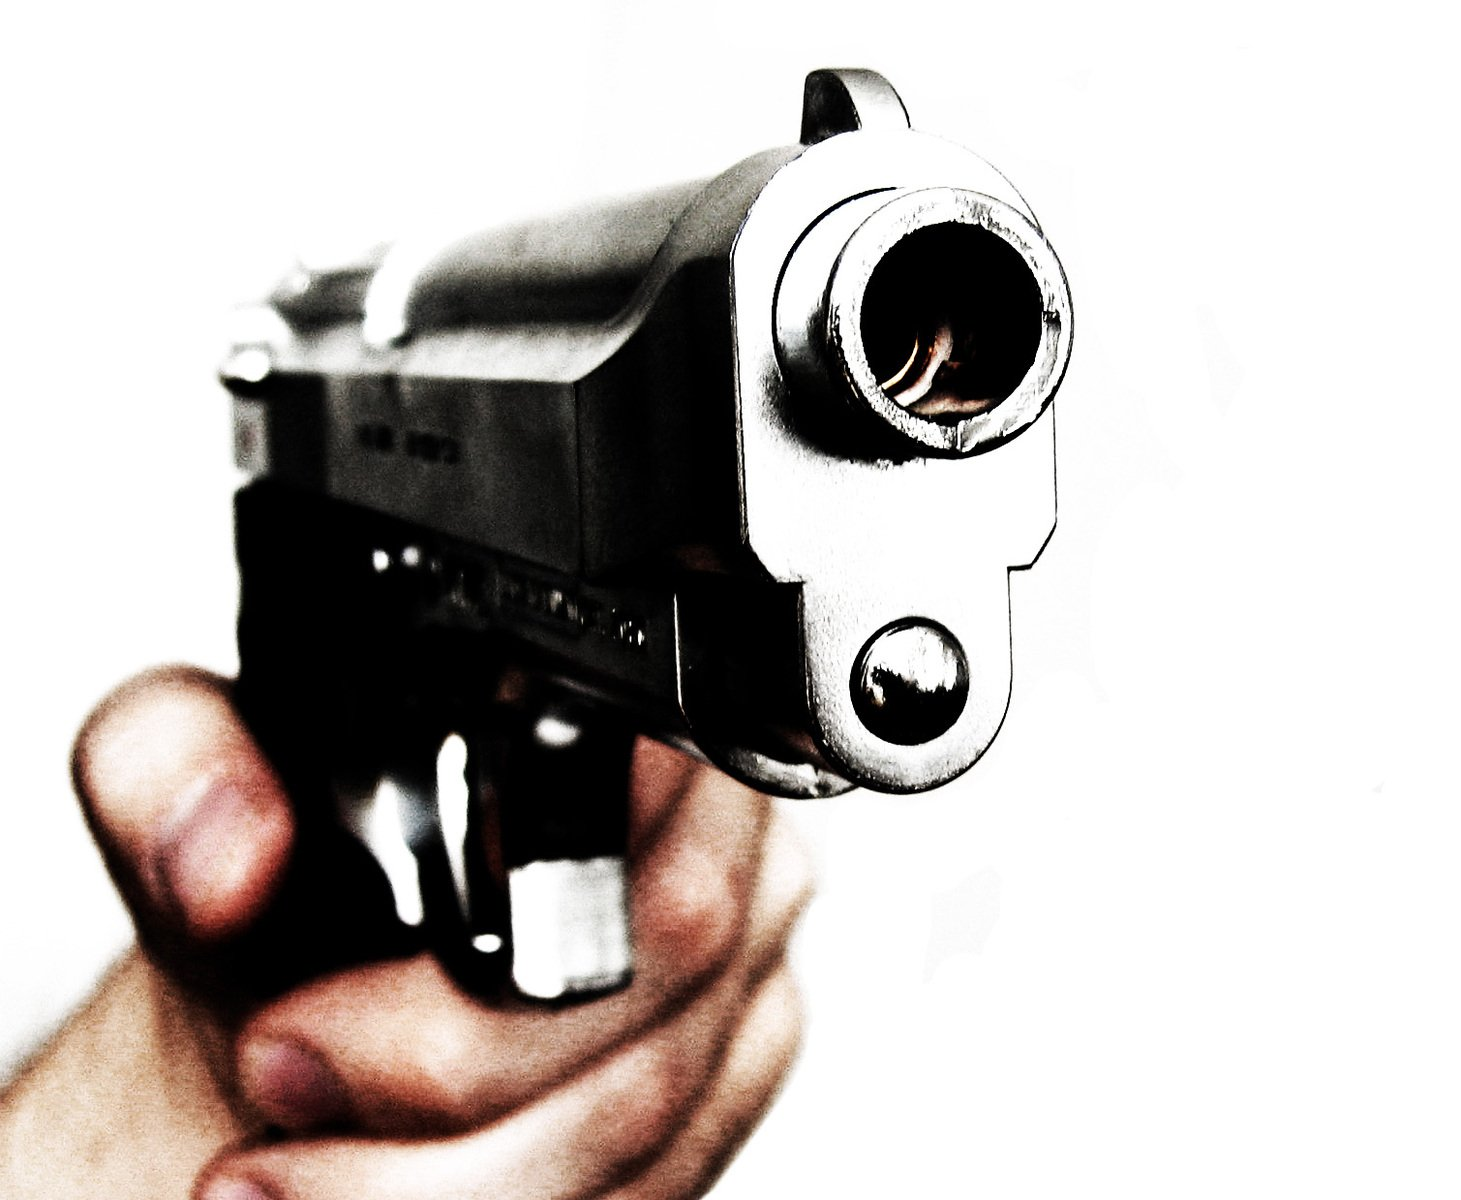gun: (208, 62, 1078, 1026)
